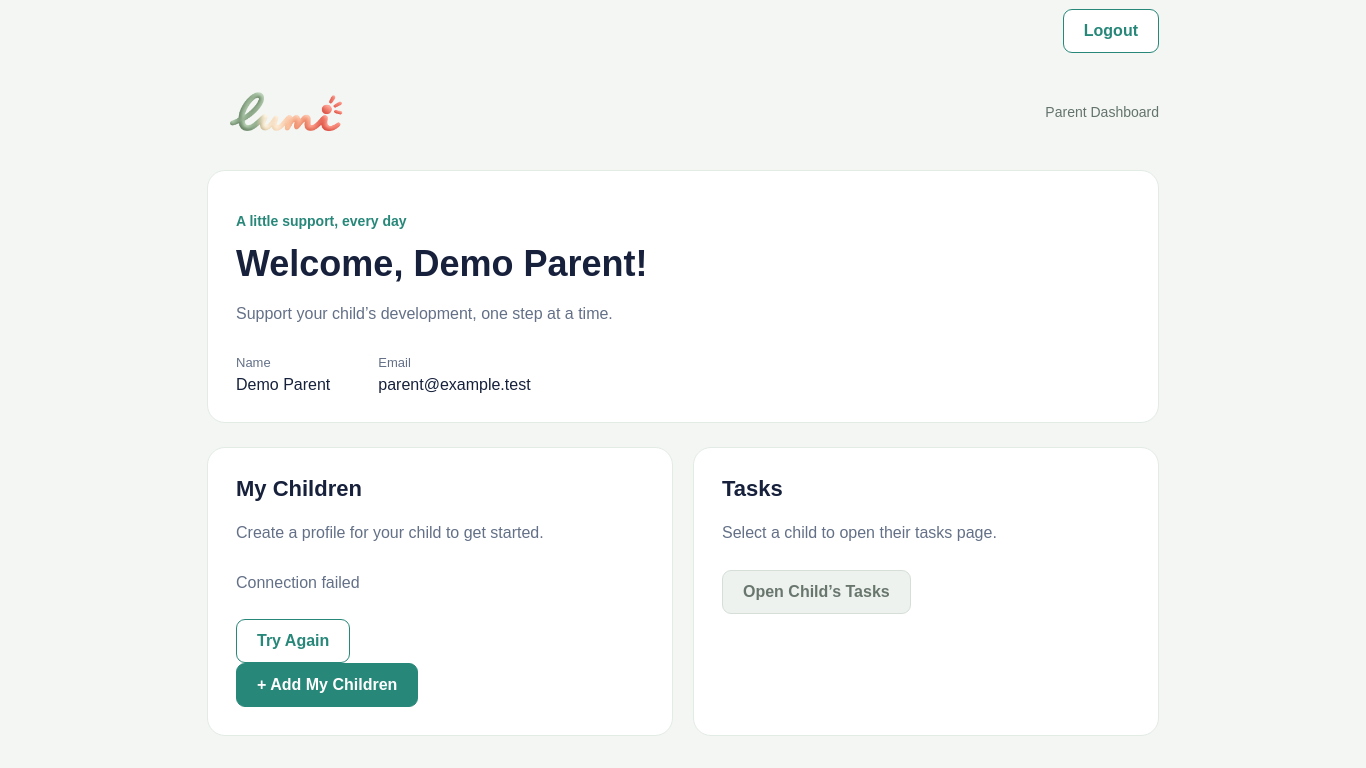
Test: shows a loading error and allows retrying
This screenshot has width=1366, height=768.
Check: the message reads "Connection failed", box x1=236 y1=574 x2=360 y2=591
Click the button "Try Again": (293,641) x1=236 y1=619 x2=350 y2=663
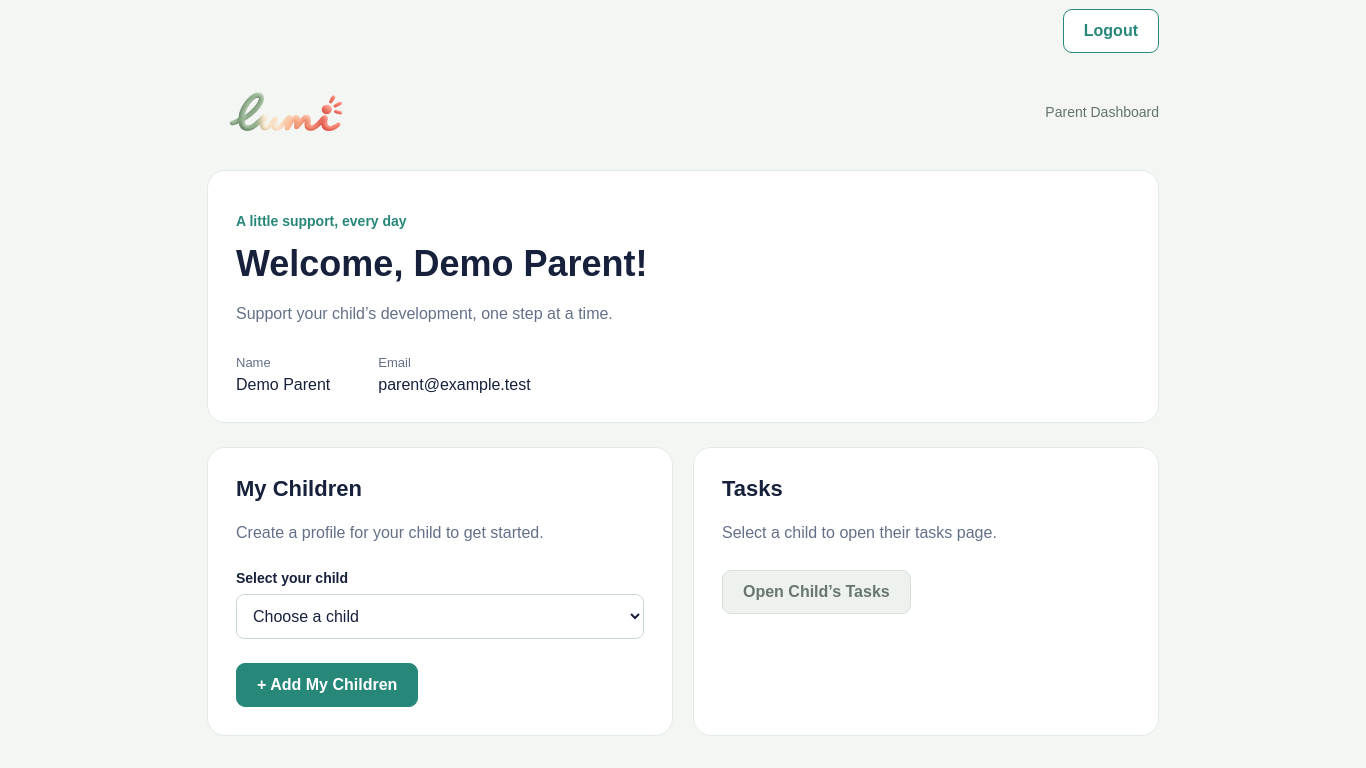
Check: the message "Connection failed" is gone
